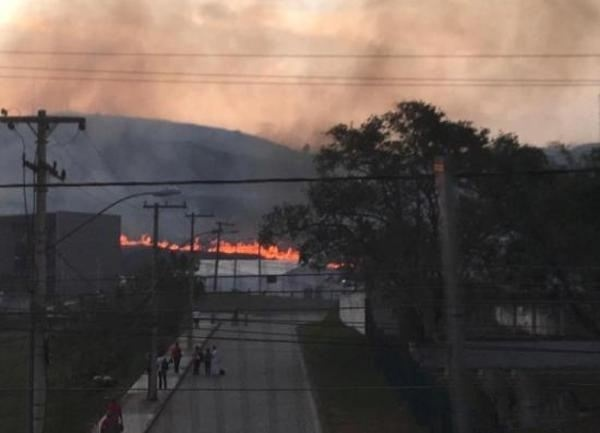fire: (117, 226, 308, 260)
